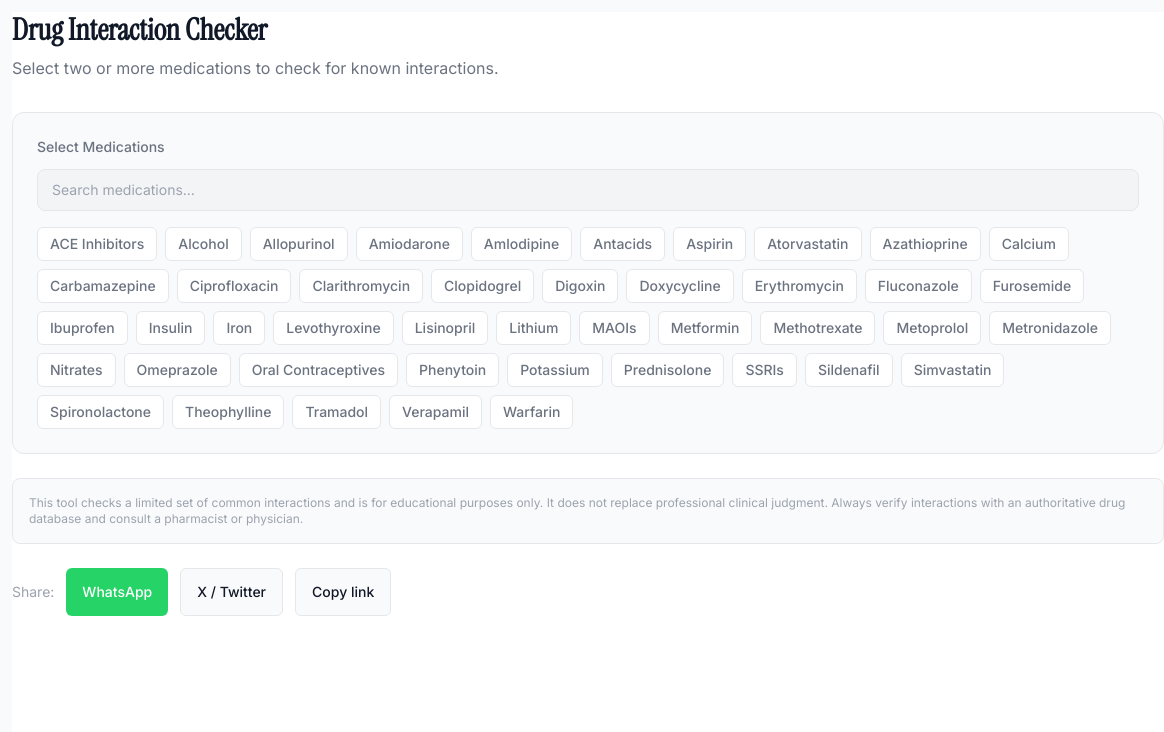
Test: DrugInteractionChecker › shows interaction result when two drugs selected
Click the button "Warfarin" at (532, 412), box 490,395 -> 573,429
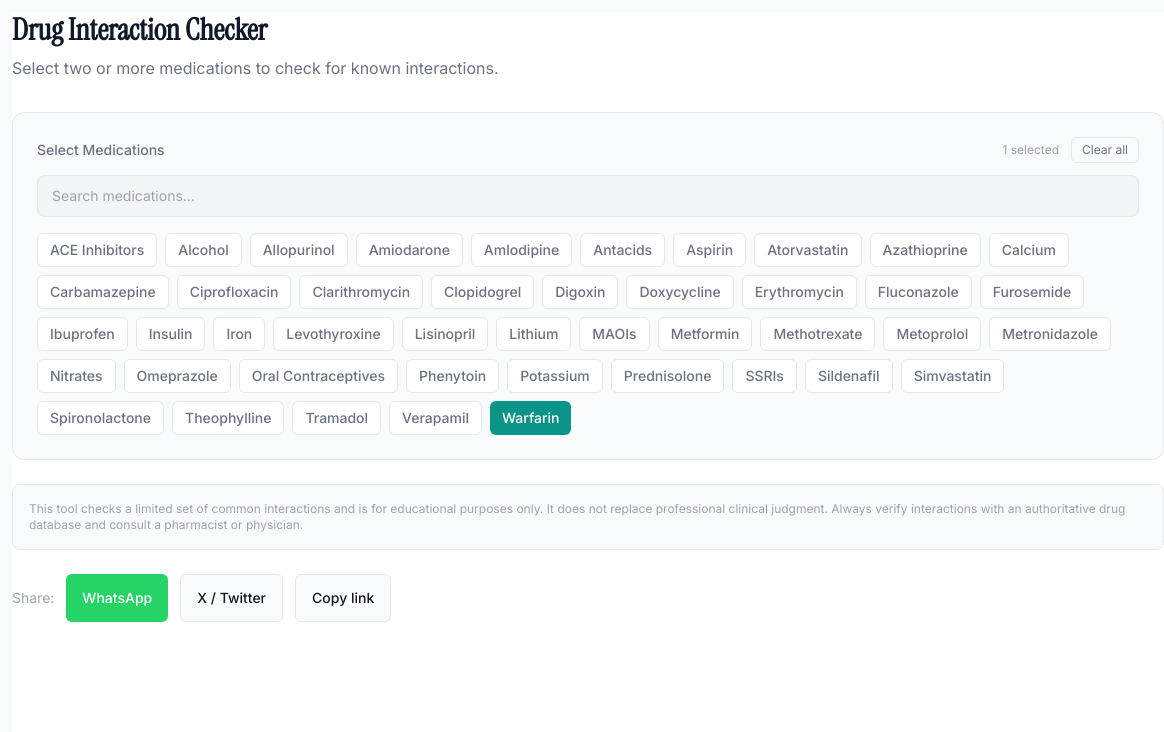
Click the button "Aspirin" at (710, 250), box 673,233 -> 746,267
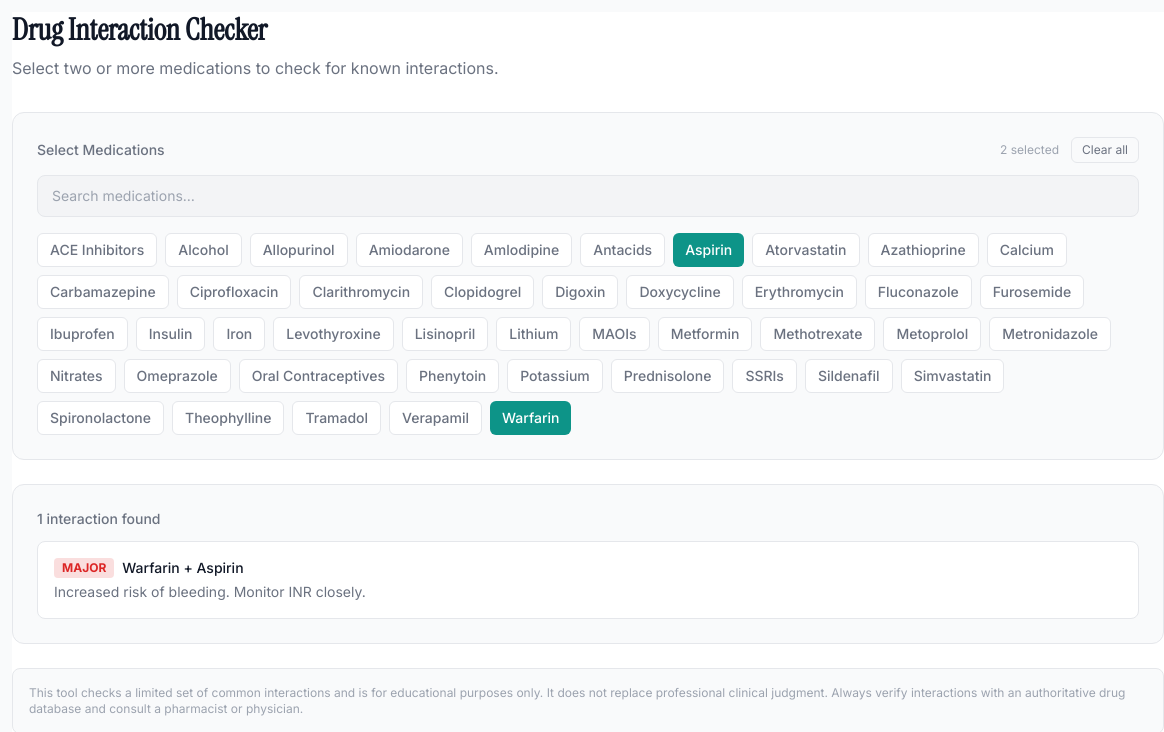
Check: the heading "1 interaction found" is shown, box 37,510 -> 160,527
Check: the text "Increased risk of bleeding. Monitor INR closely." is shown, box 54,583 -> 366,600
